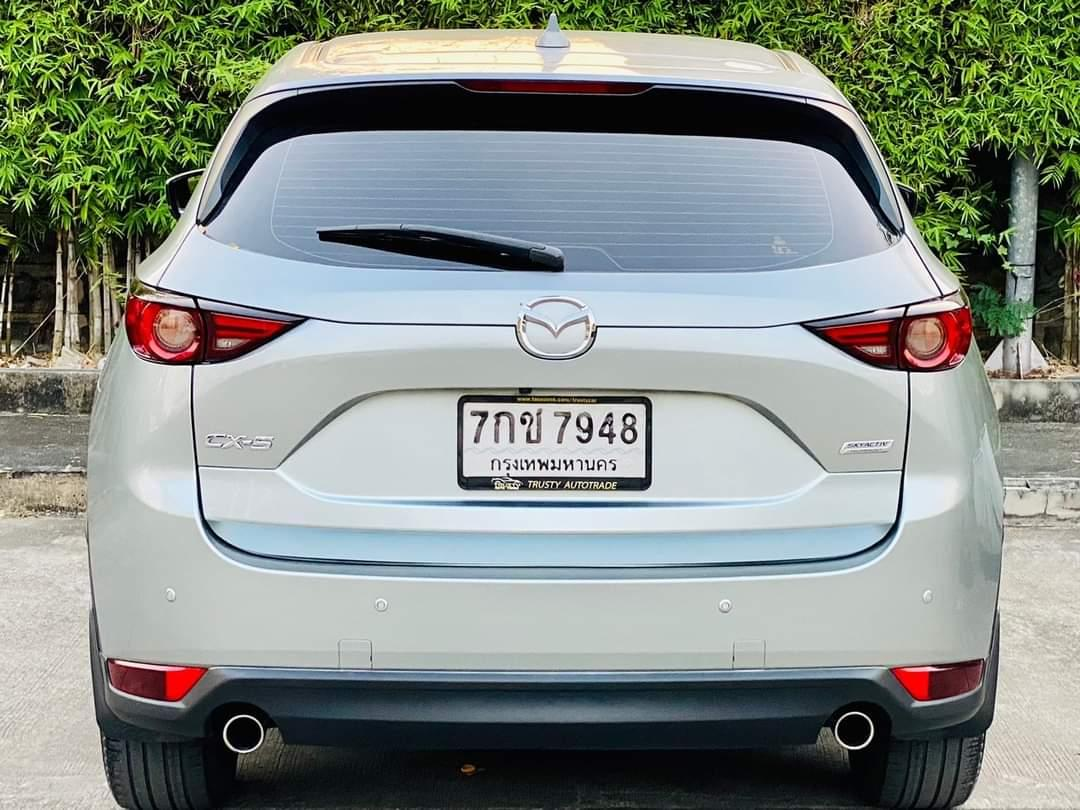license-plate: (454, 389, 655, 498)
